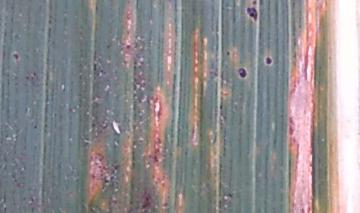tarspot: (242, 5, 259, 24), (236, 64, 248, 80), (262, 52, 274, 66), (11, 50, 20, 61), (250, 1, 259, 6), (226, 50, 231, 57)
